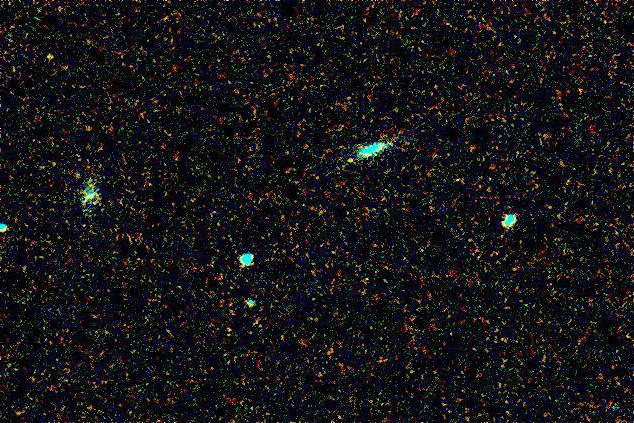star: (335, 144, 365, 174)
